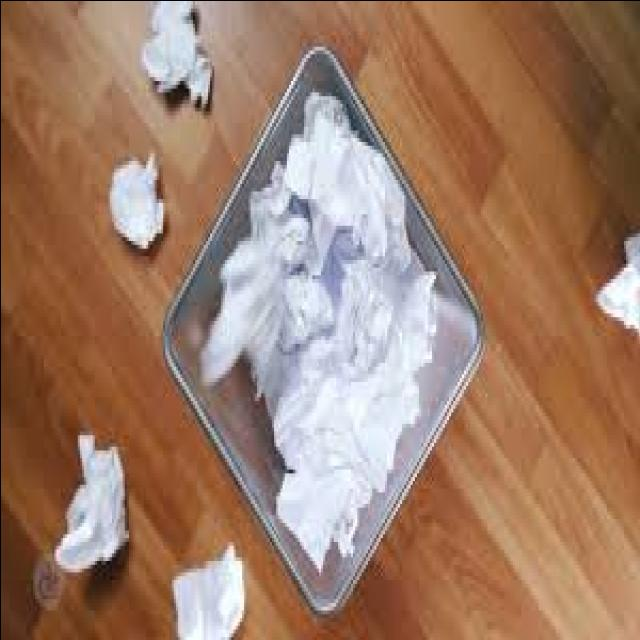tissue: (198, 94, 436, 569), (54, 438, 128, 571), (141, 3, 211, 111), (172, 550, 241, 640), (109, 157, 161, 249), (596, 235, 639, 332)
